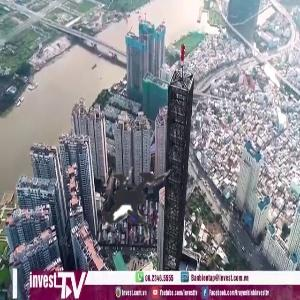drone: (53, 121, 203, 271)
